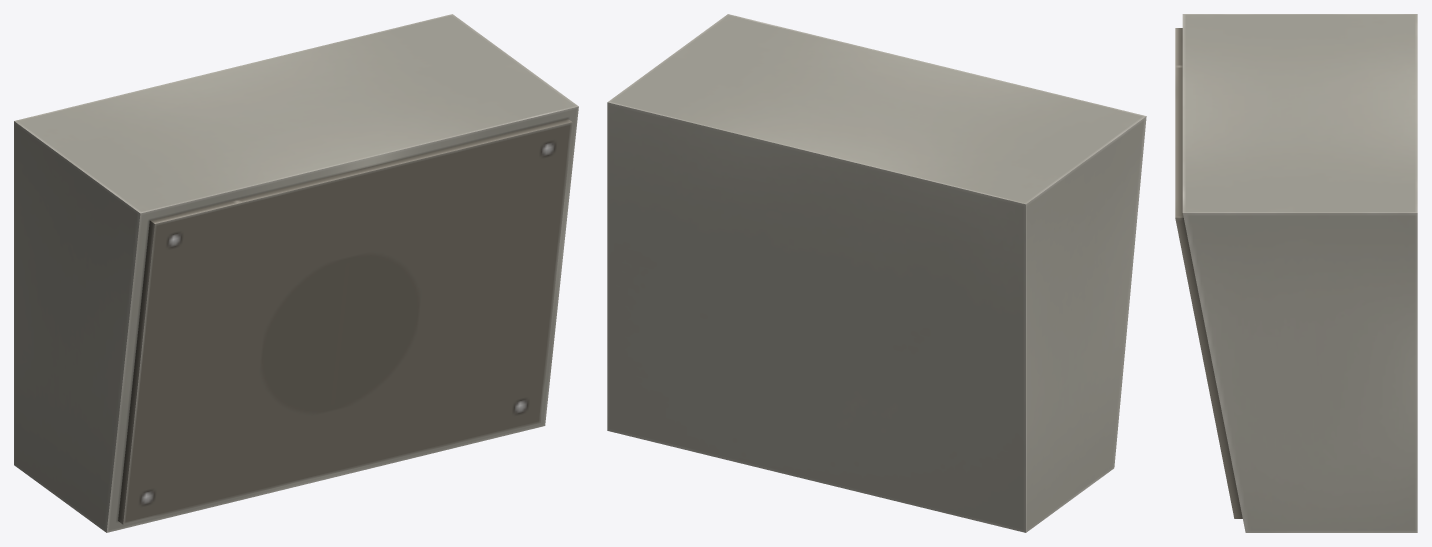
Rendered from Speaker_01_01.fbx.
3 views of the same model, side by side, from view 1: azimuth 30°, elevation 25°; view 2: azimuth 150°, elevation 25°; view 3: azimuth 270°, elevation 25° (orthographic). The views are drawn at different scales.
Visible parts, largest first — view 1: speaker_01_01; view 2: speaker_01_01; view 3: speaker_01_01.
Boxes of the visible parts, x1,y1,x2,y2 form: speaker_01_01: [14, 14, 578, 532]; speaker_01_01: [607, 14, 1146, 532]; speaker_01_01: [1175, 14, 1417, 532].
Bounding box in the file's own units: 40 × 30 × 20.61.
